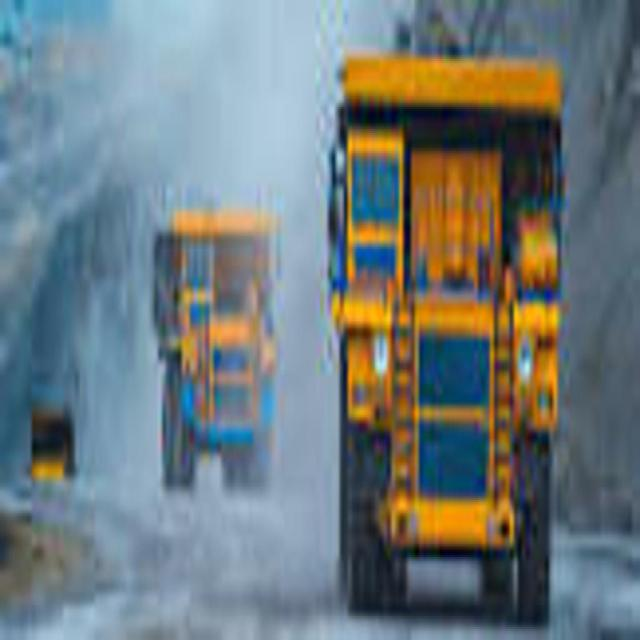dump_truck: (322, 20, 579, 640), (148, 191, 290, 514)
